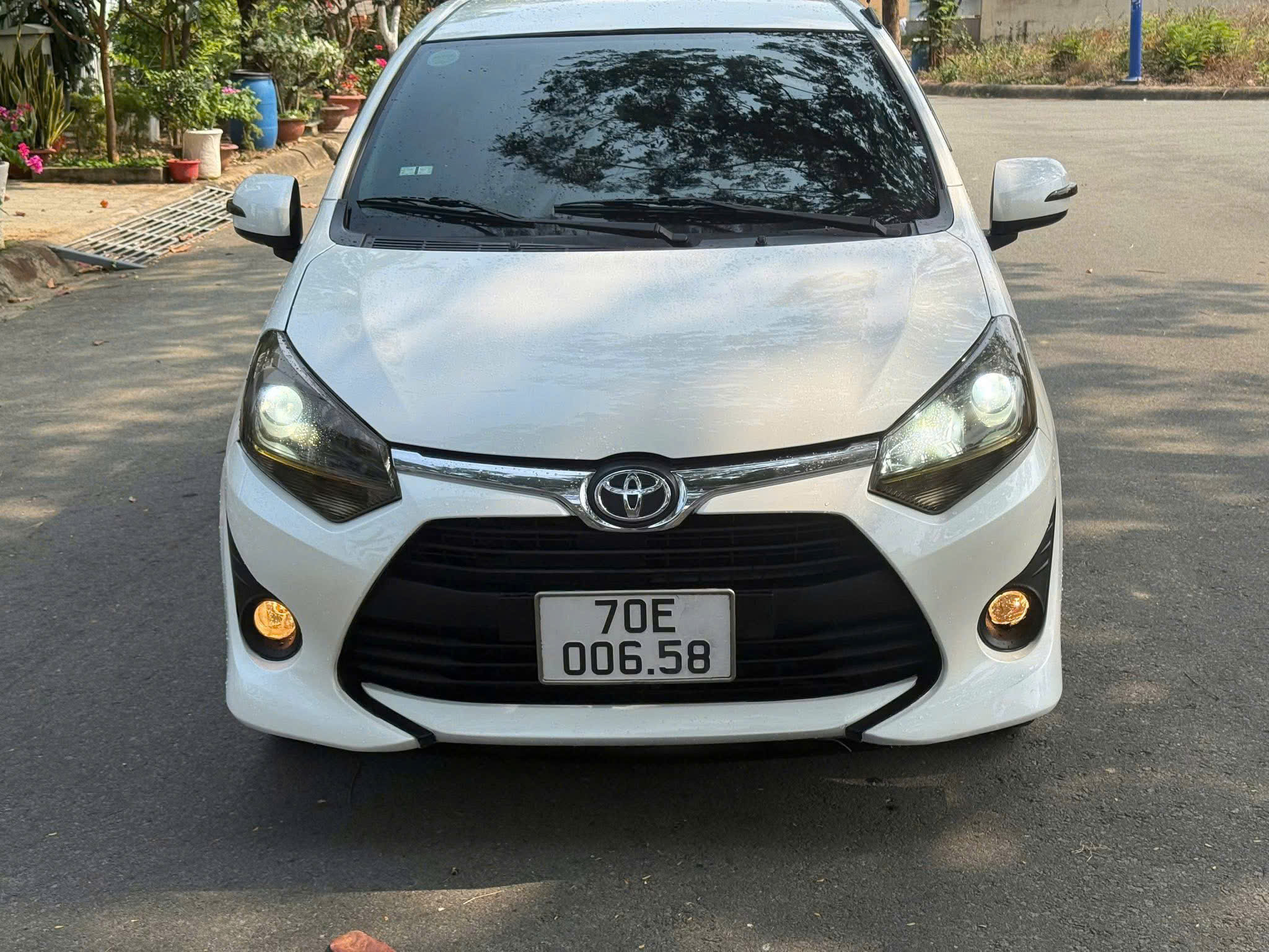Bien-so: (539, 589, 735, 685)
